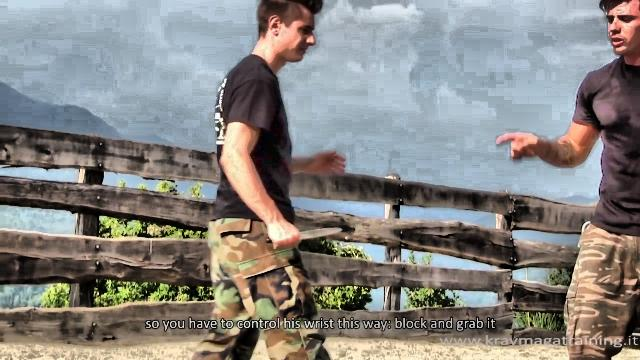knife: (264, 222, 350, 253)
